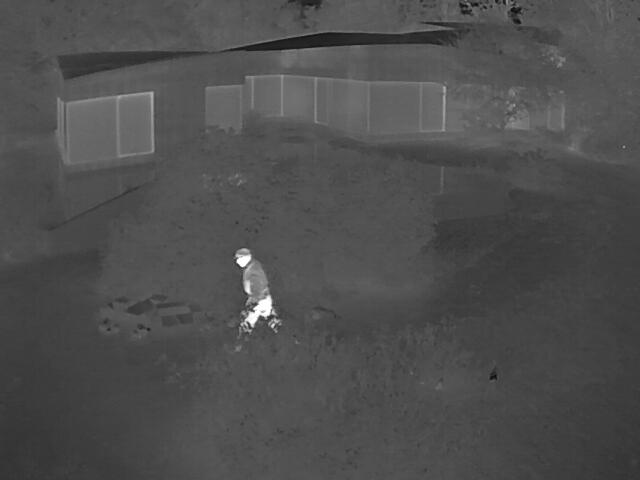person: (232, 247, 281, 340)
